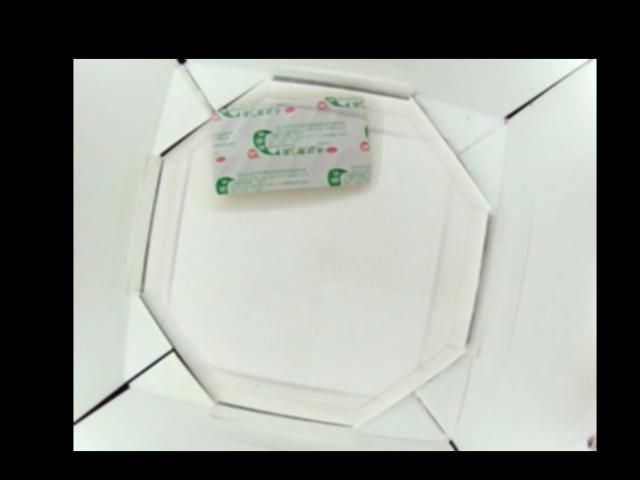Medicine: (209, 93, 373, 196)
